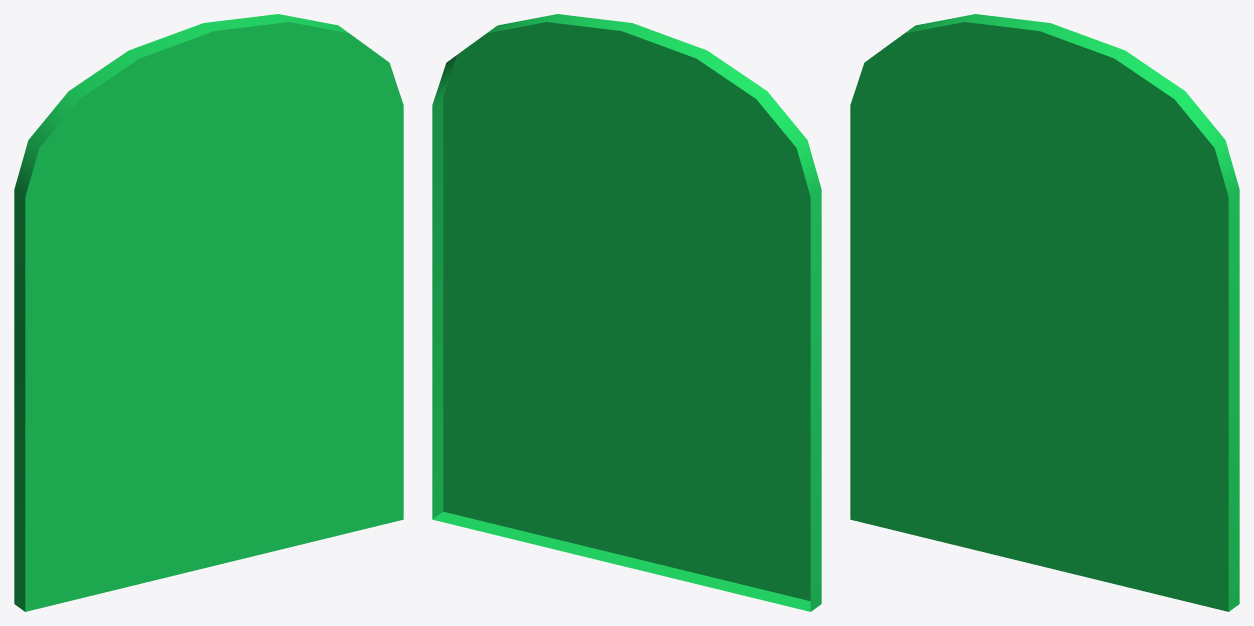
The model's file is SM_wall_window_cyl.fbx.
3 views of the same model, side by side, from view 1: azimuth 30°, elevation 25°; view 2: azimuth 150°, elevation 25°; view 3: azimuth 330°, elevation 25° (orthographic).
Visible parts, largest first — view 1: wall_win_low.001; view 2: wall_win_low.001; view 3: wall_win_low.001.
Boxes of the visible parts, left/top/right/bottom form: wall_win_low.001: left=14, top=14, right=403, bottom=611; wall_win_low.001: left=432, top=14, right=821, bottom=611; wall_win_low.001: left=850, top=14, right=1239, bottom=611.
Bounding box in the file's own units: 200 × 270 × 10.
